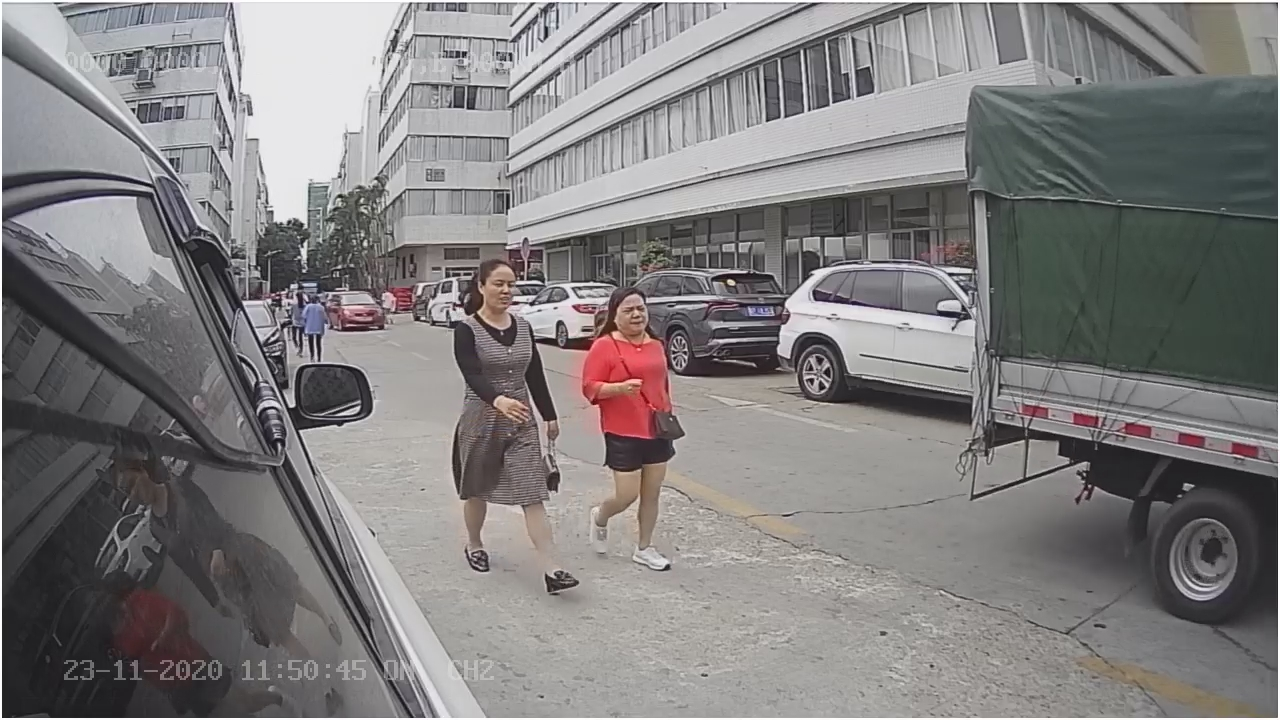person: (440, 257, 575, 599), (583, 270, 697, 572)
